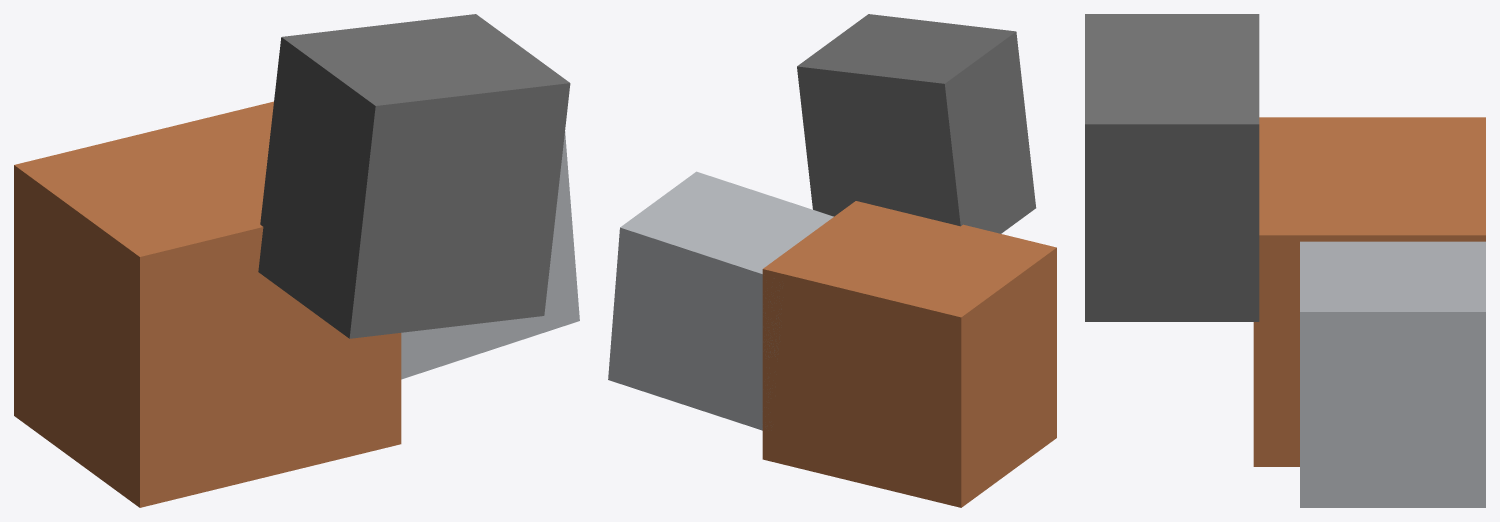
File: industrial_crate_stack.glb
3 renders of one model, left to right at view 1: azimuth 30°, elevation 25°; view 2: azimuth 150°, elevation 25°; view 3: azimuth 270°, elevation 25°, orthographic. The views are drawn at different scales.
Visible parts, largest first — view 1: crate1, crate3, crate2; view 2: crate1, crate3, crate2; view 3: crate3, crate2, crate1.
Boxes of the visible parts, box(x1,y1,x2,y2) form: crate1: box(14, 101, 401, 507); crate3: box(258, 14, 570, 338); crate2: box(401, 131, 579, 379); crate1: box(762, 201, 1056, 507); crate3: box(797, 14, 1036, 233); crate2: box(608, 171, 833, 430); crate3: box(1085, 14, 1259, 321); crate2: box(1300, 241, 1485, 507); crate1: box(1253, 117, 1485, 466).
Size of the model in its own units: 2.13 by 1.9 by 1.73.
